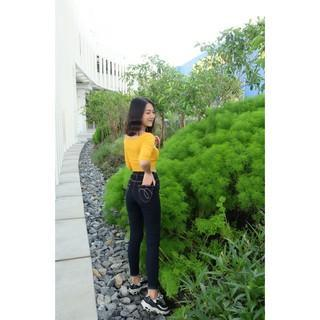Tshirt: (124, 131, 162, 177)
pants: (124, 171, 166, 288)
